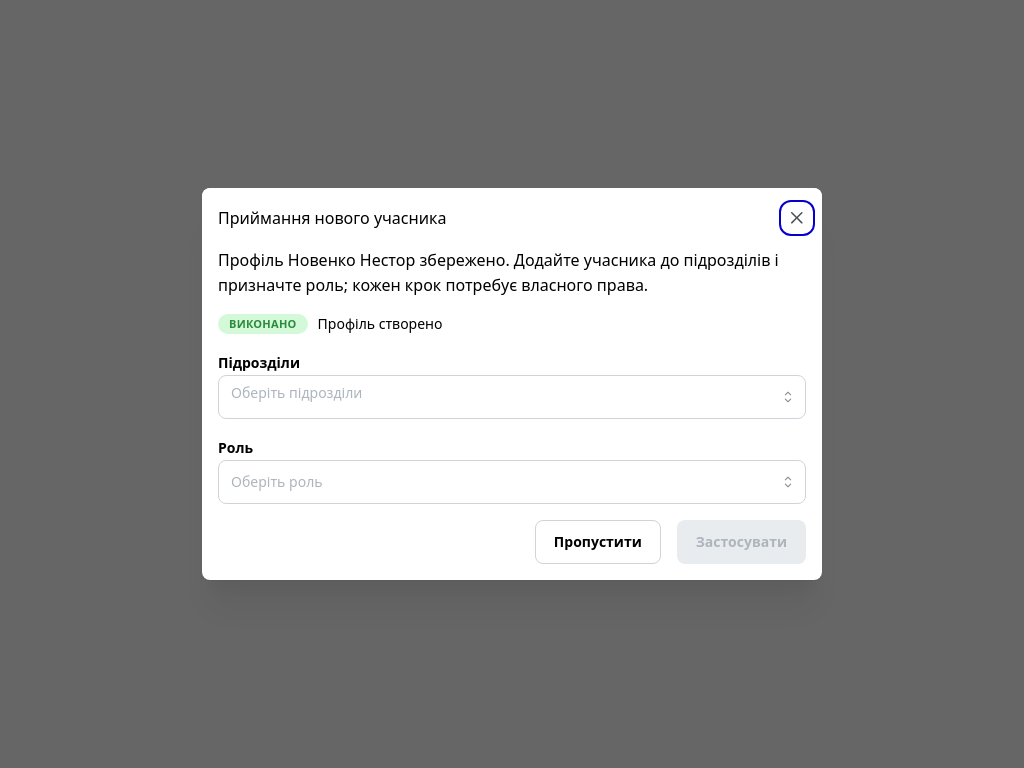
Test: OnboardingModal › adds to a unit and assigns a role in one flow
Step 1. Click the dropdown labelled "Підрозділи" → point(501, 393), box [231,381,771,404]
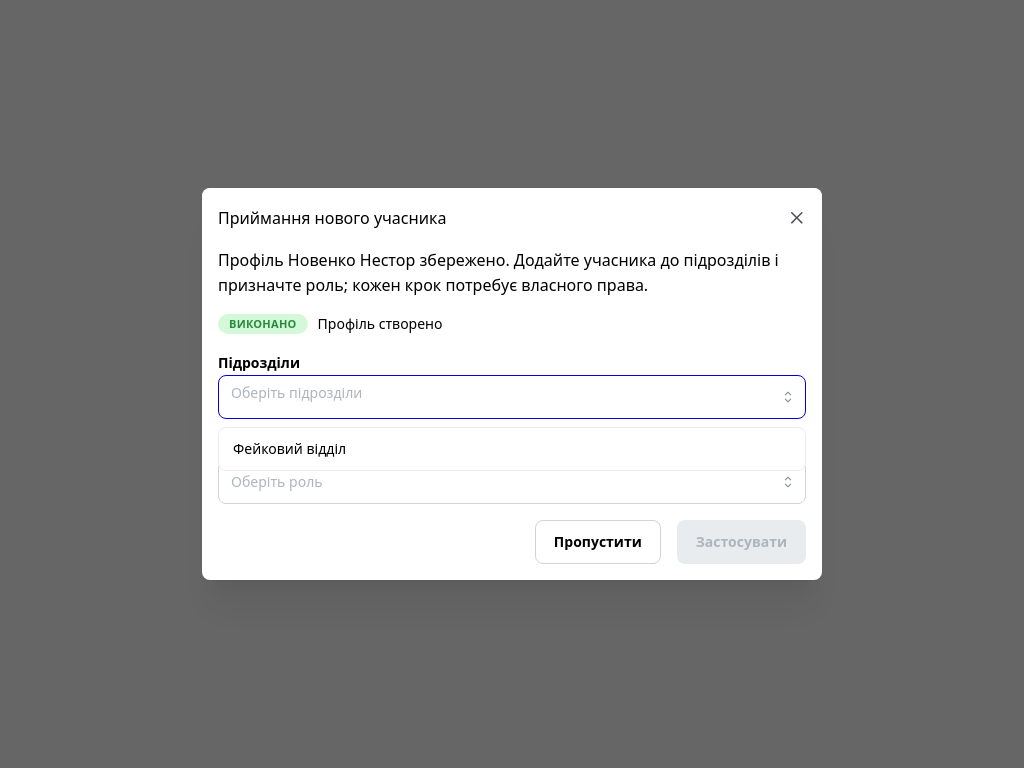
Step 2. Click the option "Фейковий відділ" → point(290, 448), box [233,439,346,458]
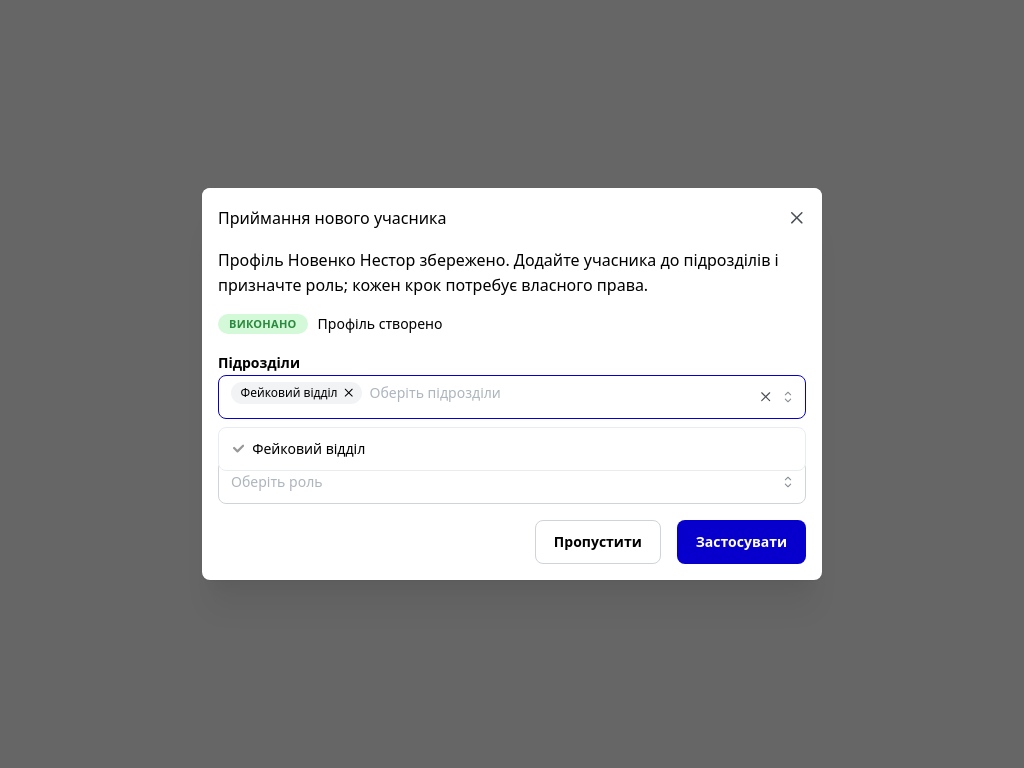
Step 3. Click the dropdown labelled "Роль" → point(512, 482), box [218,460,806,504]
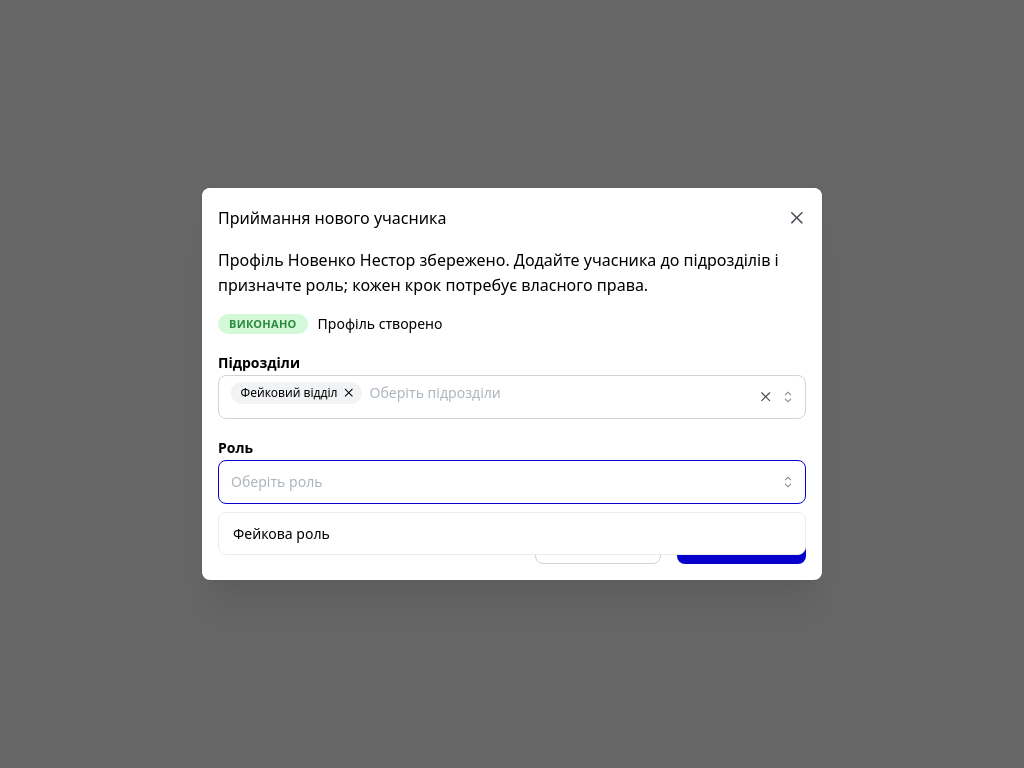
Step 4. Click the option "Фейкова роль" → point(281, 533), box [233,524,330,543]
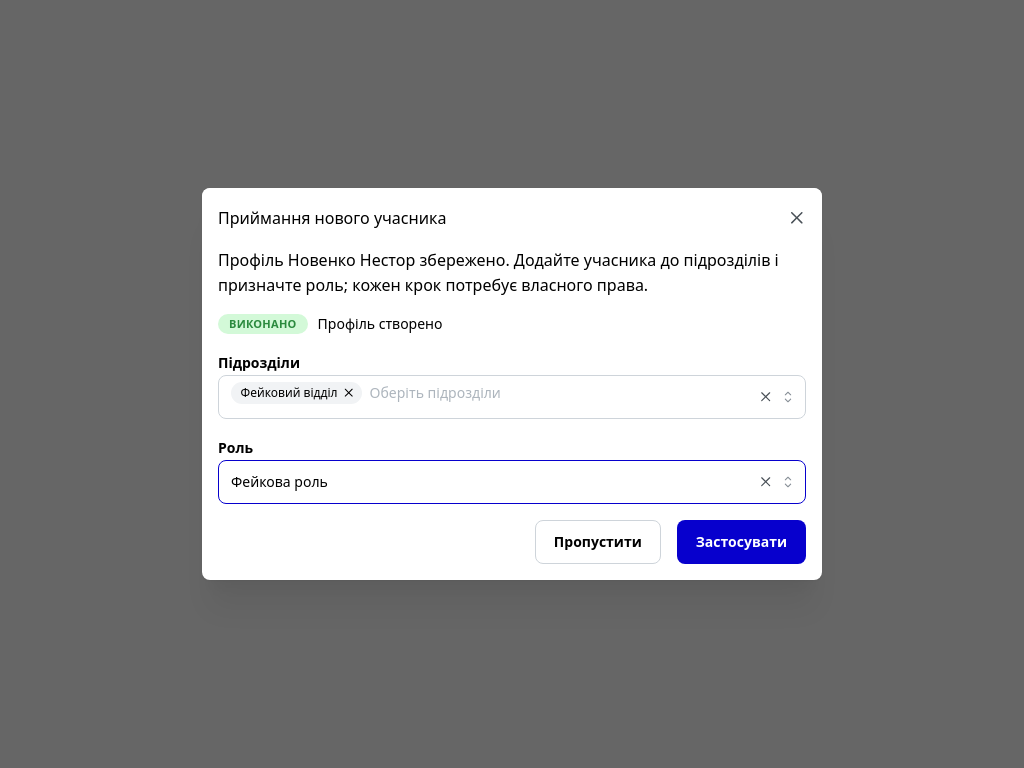
Step 5. Click the button "Застосувати" → point(741, 542), box [677,520,806,564]
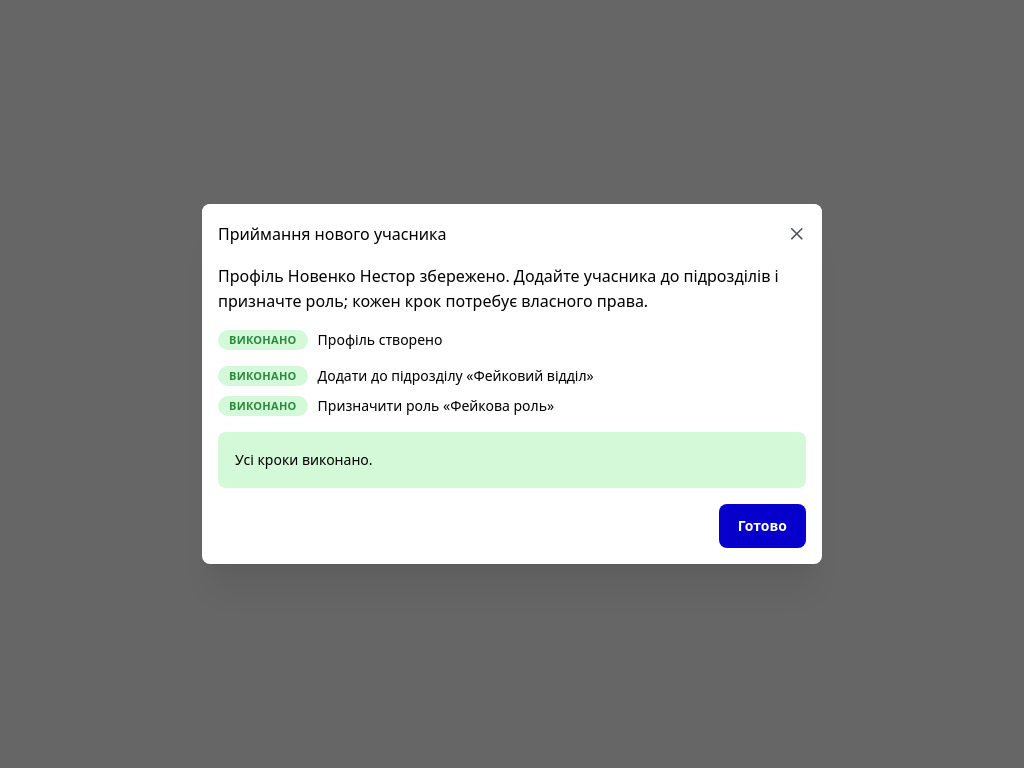
Expected: the text "Усі кроки виконано." is shown, [235,450,372,469]
